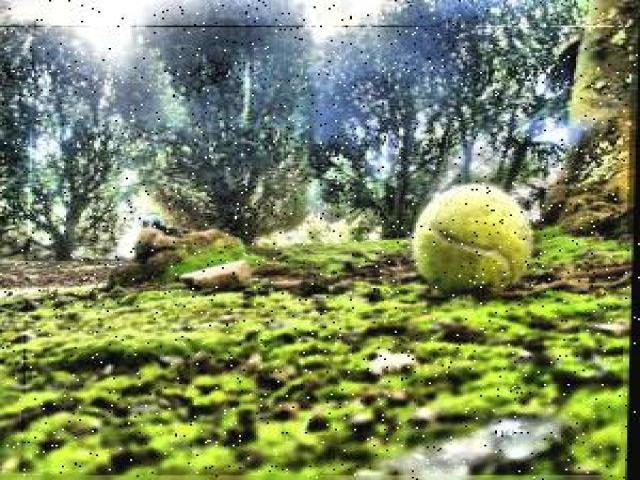tennis-ball: (412, 184, 535, 296)
